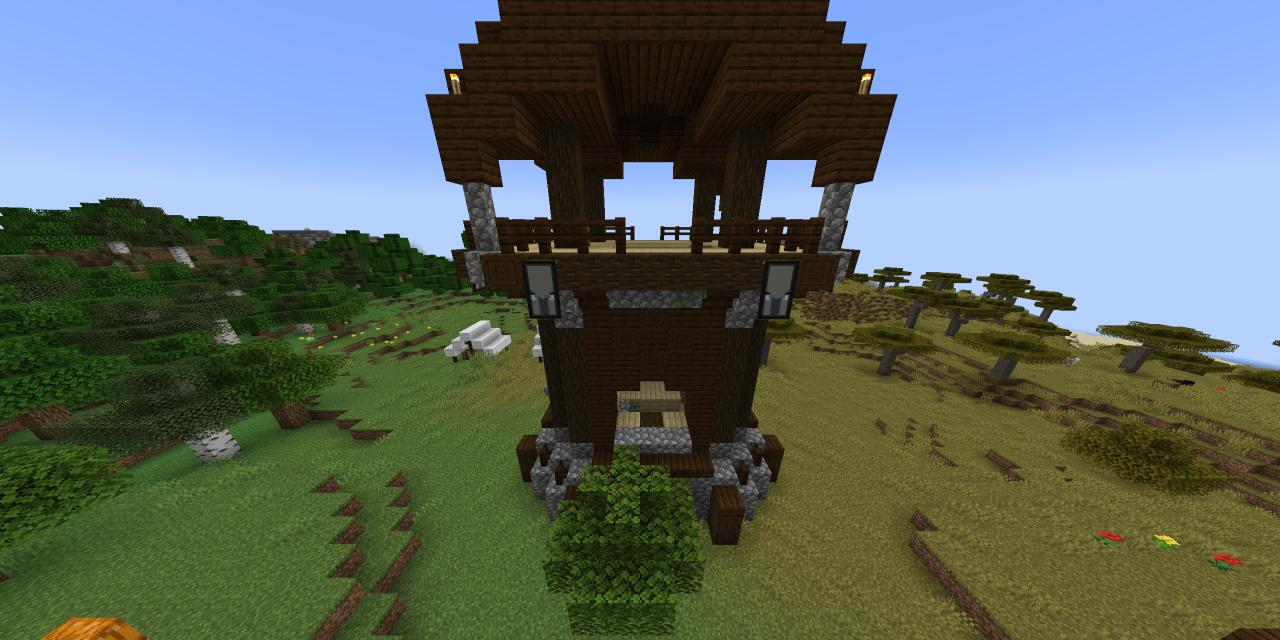pillager outpost: (417, 0, 905, 559)
